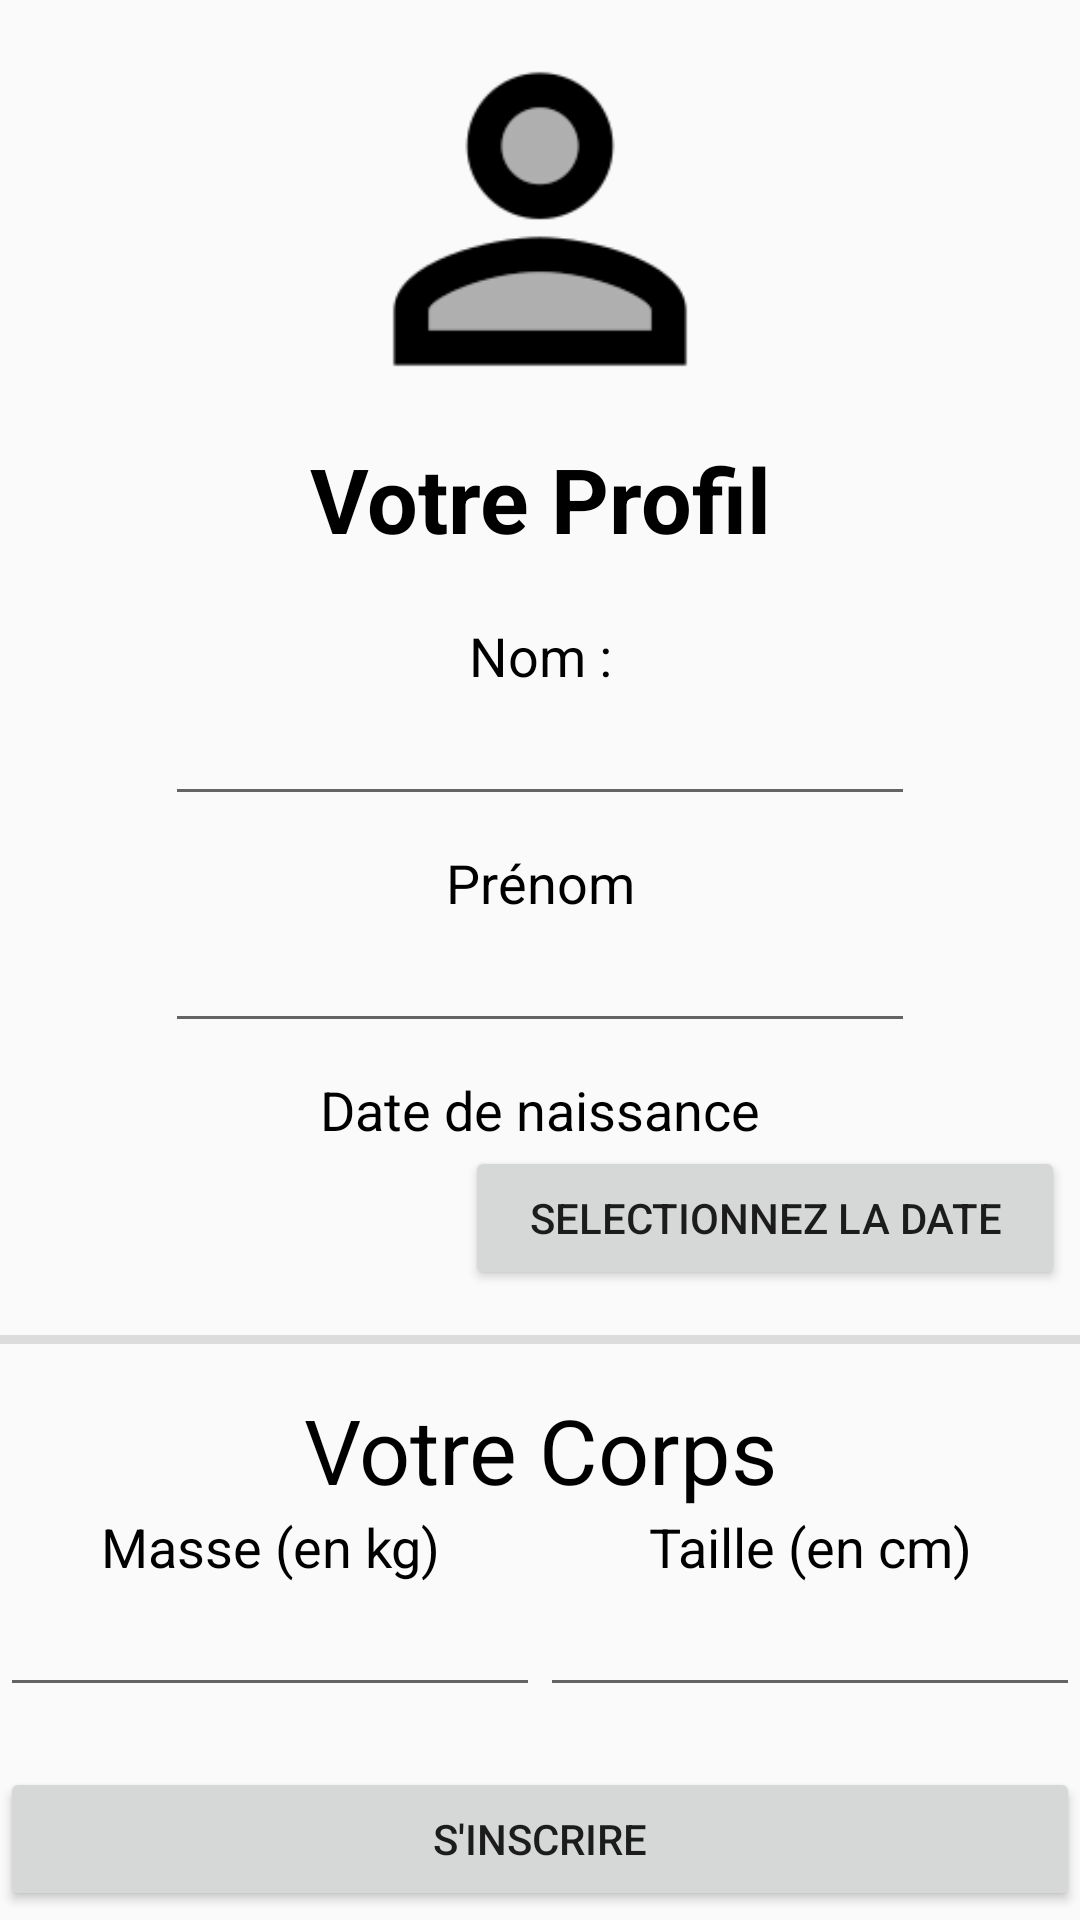

Where icons sit on this 1080px×1920px app screen, as (x1, y1, x2, y2):
perso inscription: (392, 72, 688, 367)
